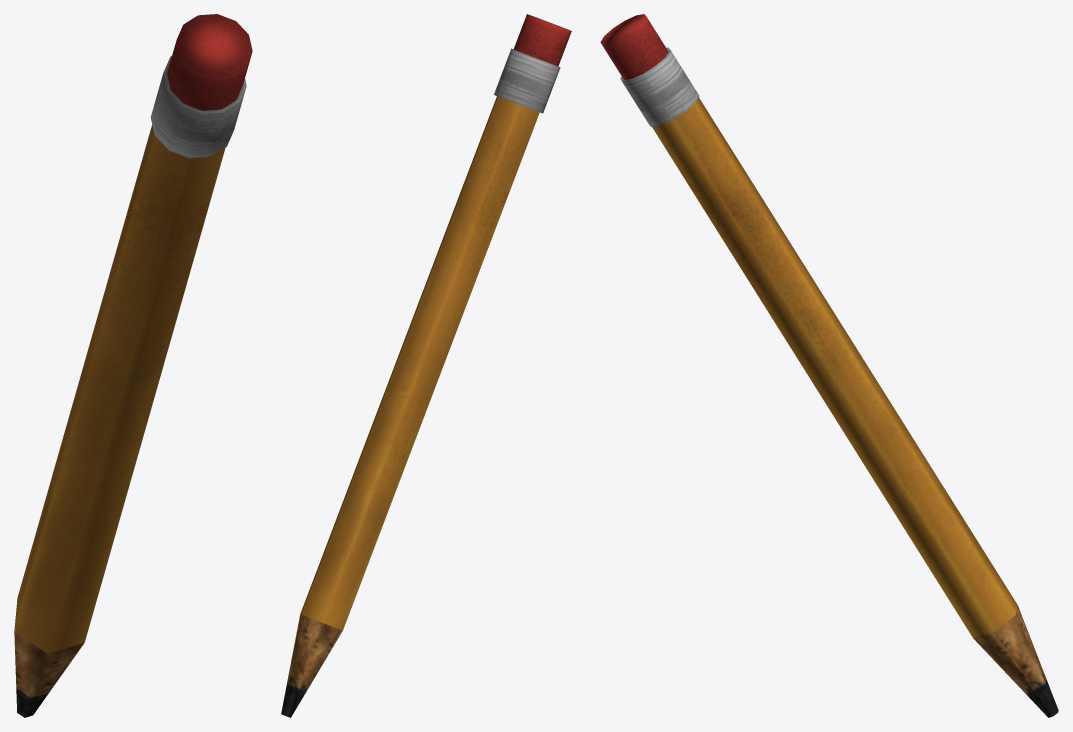
File: qianbi1.fbx
3 renders of one model, left to right at view 1: azimuth 30°, elevation 25°; view 2: azimuth 150°, elevation 25°; view 3: azimuth 270°, elevation 25°, orthographic. The views are drawn at different scales.
Visible parts, largest first — view 1: _QB_L5, _QB_L4, _QB_L3; view 2: _QB_L5, _QB_L3, _QB_L4; view 3: _QB_L5, _QB_L3, _QB_L4.
Part boxes in pixels (x1,y1,x2,y2): _QB_L5: [14, 125, 225, 717]; _QB_L4: [167, 14, 252, 110]; _QB_L3: [150, 56, 246, 158]; _QB_L5: [281, 96, 539, 717]; _QB_L3: [494, 48, 560, 113]; _QB_L4: [513, 14, 571, 66]; _QB_L5: [652, 97, 1058, 717]; _QB_L3: [620, 47, 699, 126]; _QB_L4: [600, 14, 668, 79].
Bounding box in the file's own units: 0.6366 × 3.37 × 2.12.
